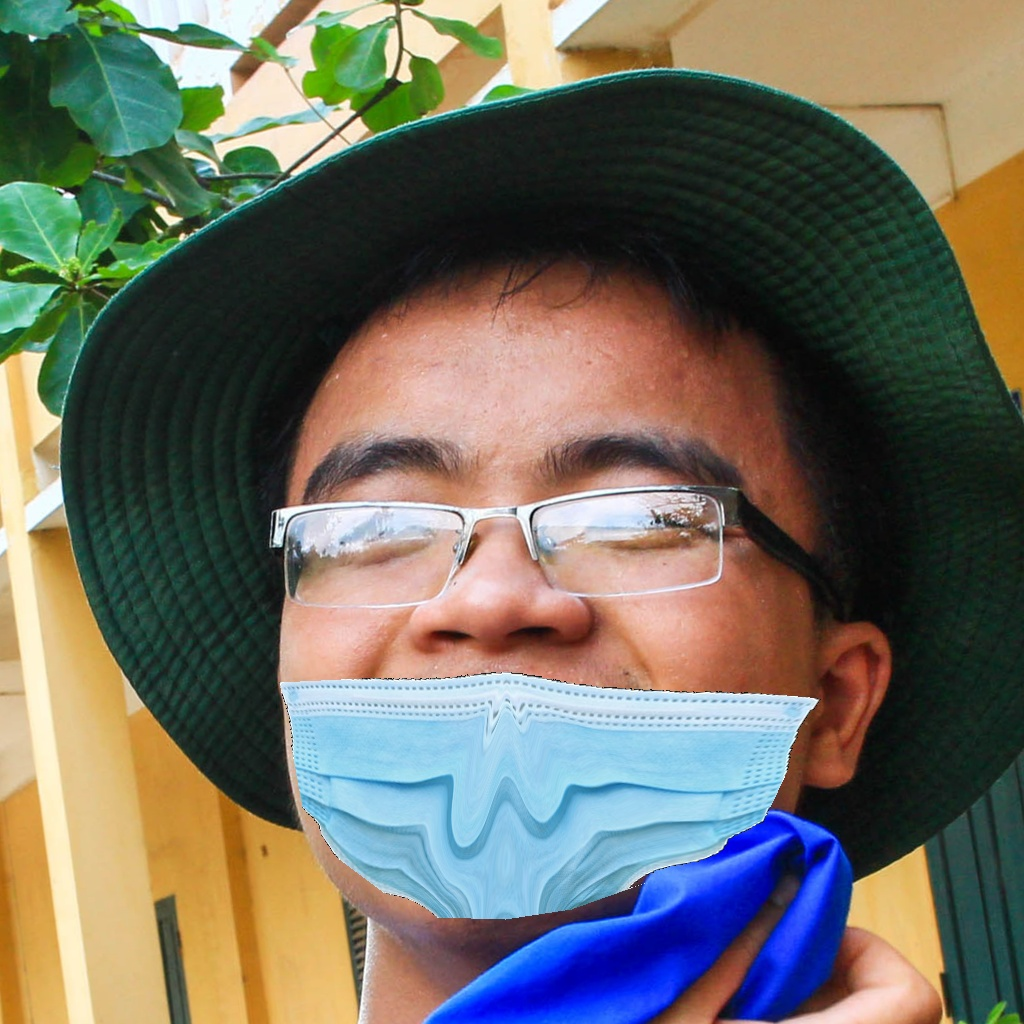mask_weared_incorrect: (254, 435, 831, 935)
